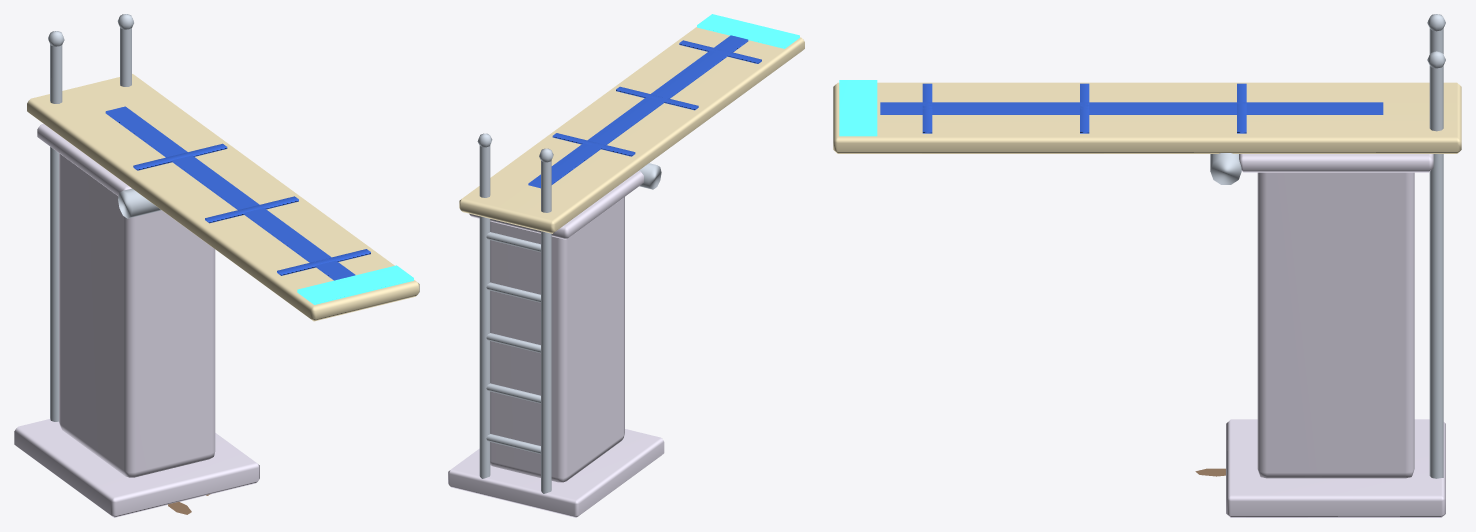
File: diving_board.glb
The picture shows the model from 3 angles, left to right: view 1: azimuth 30°, elevation 25°; view 2: azimuth 150°, elevation 25°; view 3: azimuth 270°, elevation 25°; orthographic projection. The views are drawn at different scales.
Parts seen in each view (by area): view 1: Board; view 2: Board; view 3: Board.
Part boxes in pixels (x1=…): Board: x1=14, y1=14, x2=419, y2=517; Board: x1=448, y1=14, x2=804, y2=517; Board: x1=833, y1=14, x2=1461, y2=517.
Bounding box in the file's own units: 0.6 × 1.57 × 2.
